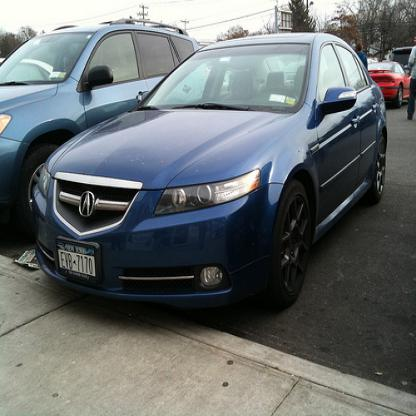Vehicle: (32, 32, 391, 317)
